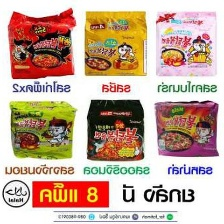snack: (3, 4, 80, 81), (80, 5, 151, 80), (5, 95, 81, 163), (152, 7, 221, 79), (82, 95, 149, 164), (151, 97, 223, 161)
